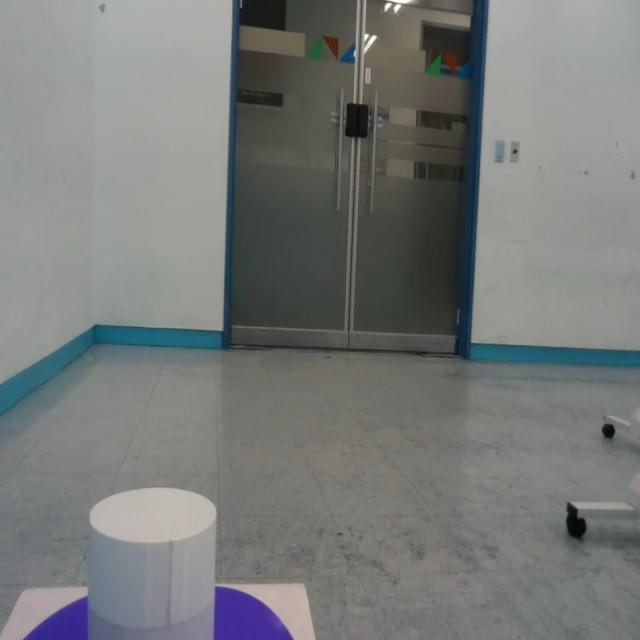cylinder: (87, 487, 219, 639)
